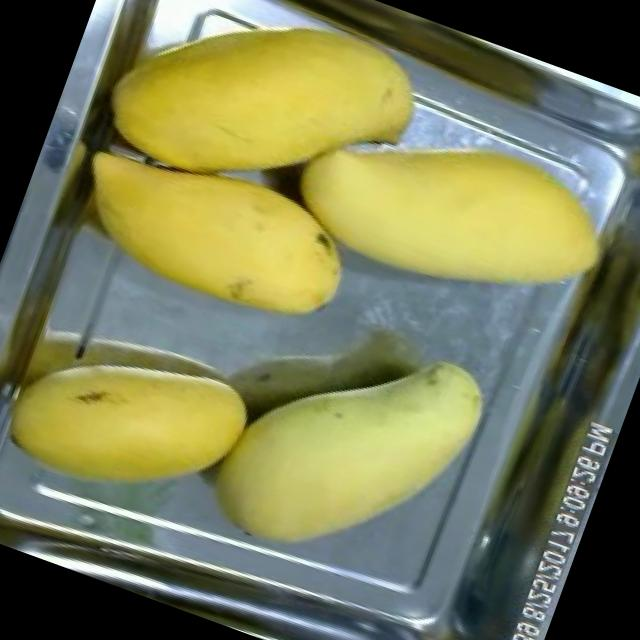fruit: (258, 71, 640, 362), (193, 292, 503, 607), (80, 0, 452, 254), (45, 110, 378, 352), (0, 306, 268, 542)
